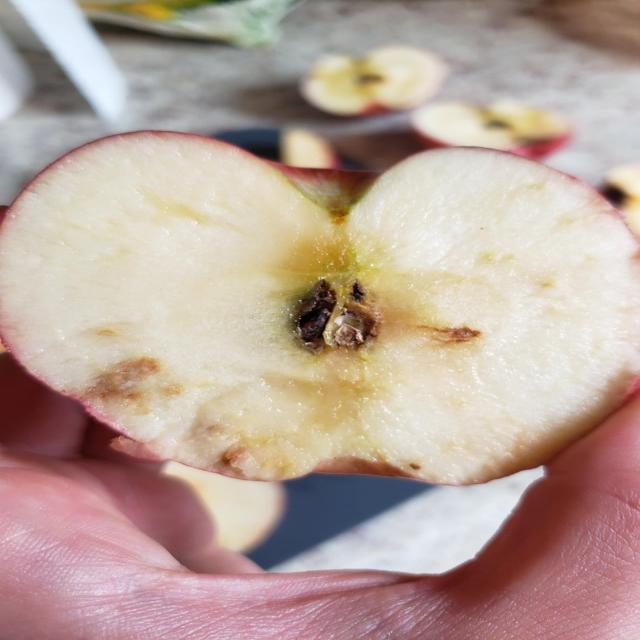apple_fruit: (5, 126, 639, 483)
